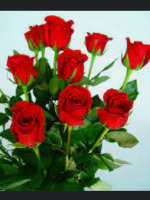RedRose: (10, 100, 48, 147), (53, 80, 91, 125), (98, 82, 131, 131), (118, 32, 150, 75), (4, 51, 40, 86), (57, 51, 95, 81), (46, 17, 76, 49), (79, 28, 112, 55), (22, 21, 49, 53)
